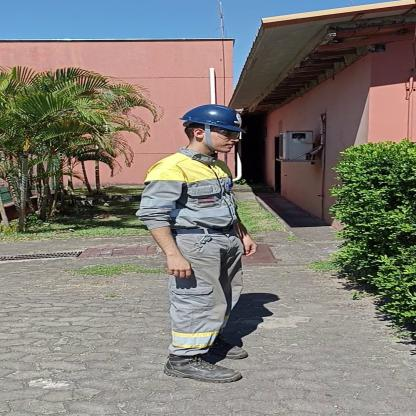Capacete: (177, 103, 250, 128)
